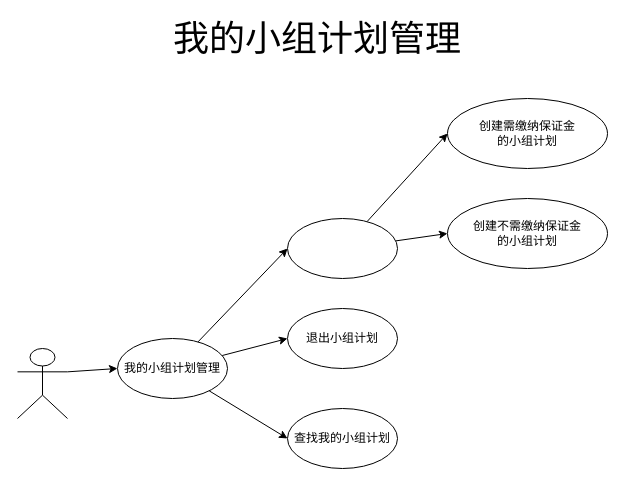
This 625x486 diagram has some shape labels left out. The shapes that lost their labels are listed below. From the top down, each one's box as (x1, y1, x2, y2) in pixels, then its label:
(286, 218, 398, 278): 创建小组计划
(16, 348, 68, 418): 用户
